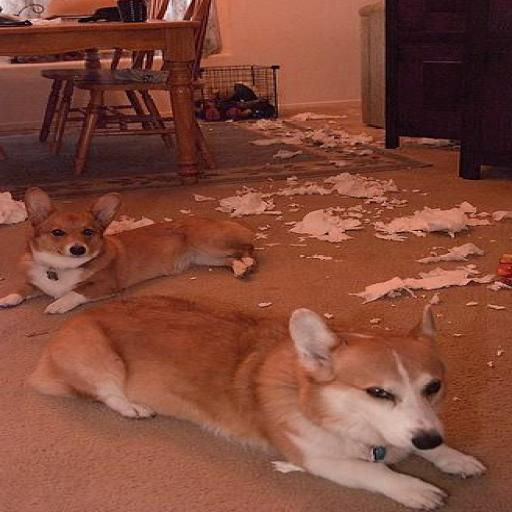dog_face: (274, 301, 486, 459), (15, 187, 138, 272)
